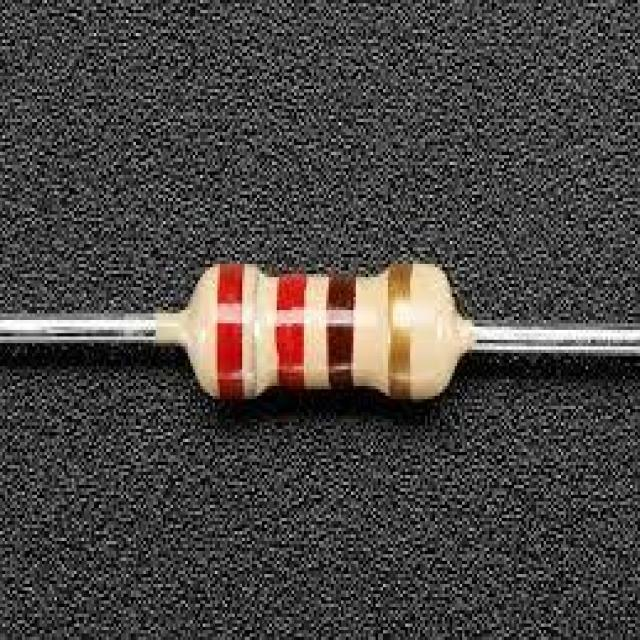Resistor: (119, 261, 507, 399)
brown: (327, 272, 354, 390)
gold: (389, 260, 411, 402)
red: (218, 263, 243, 405), (276, 275, 305, 392)
